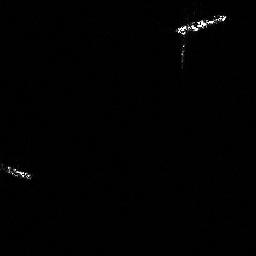ship: (173, 12, 229, 38), (1, 160, 36, 185)
